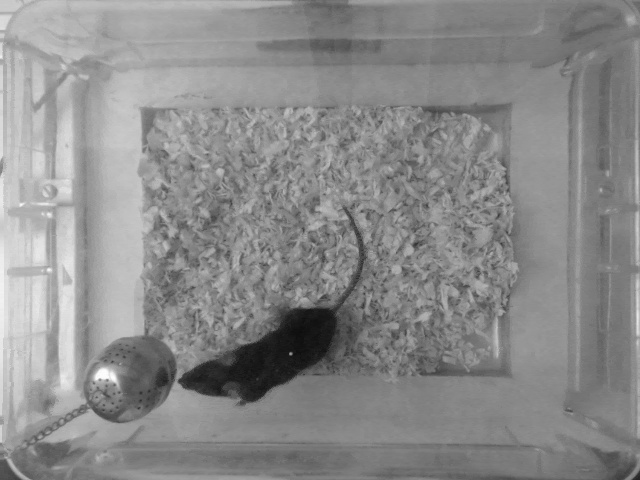mice: (172, 203, 368, 410)
